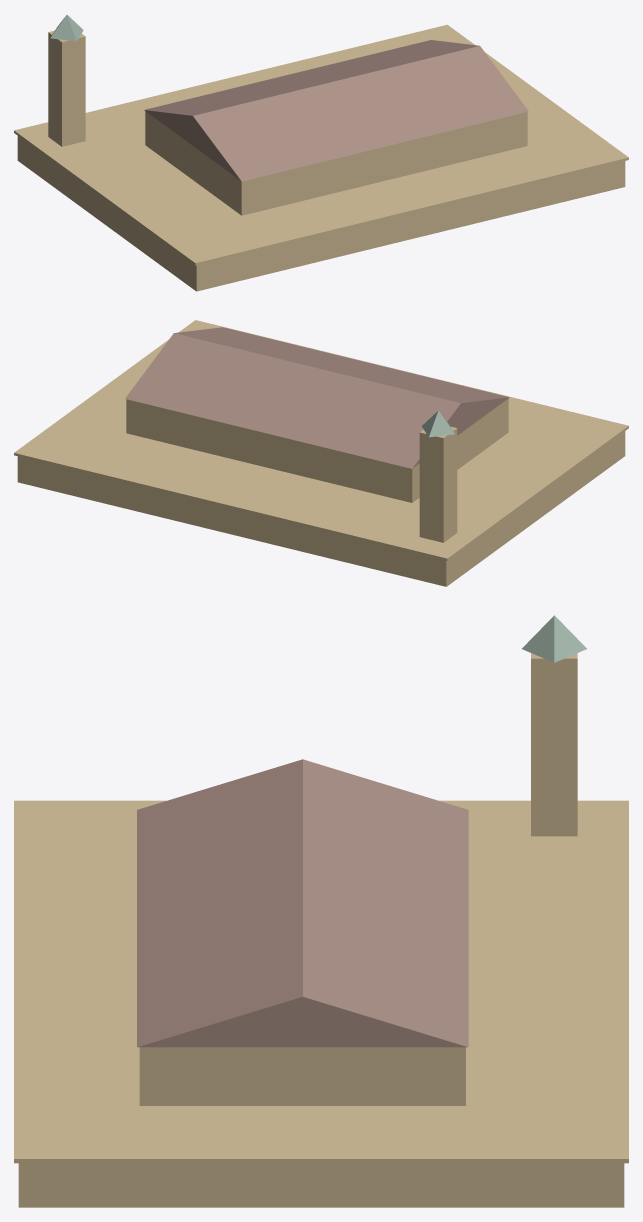
File: mezquita.glb
3 views of the same model, one above another, from view 1: azimuth 30°, elevation 25°; view 2: azimuth 150°, elevation 25°; view 3: azimuth 270°, elevation 25° (orthographic). The views are drawn at different scales.
Bounding box in the file's own units: 182 × 62 × 132.
